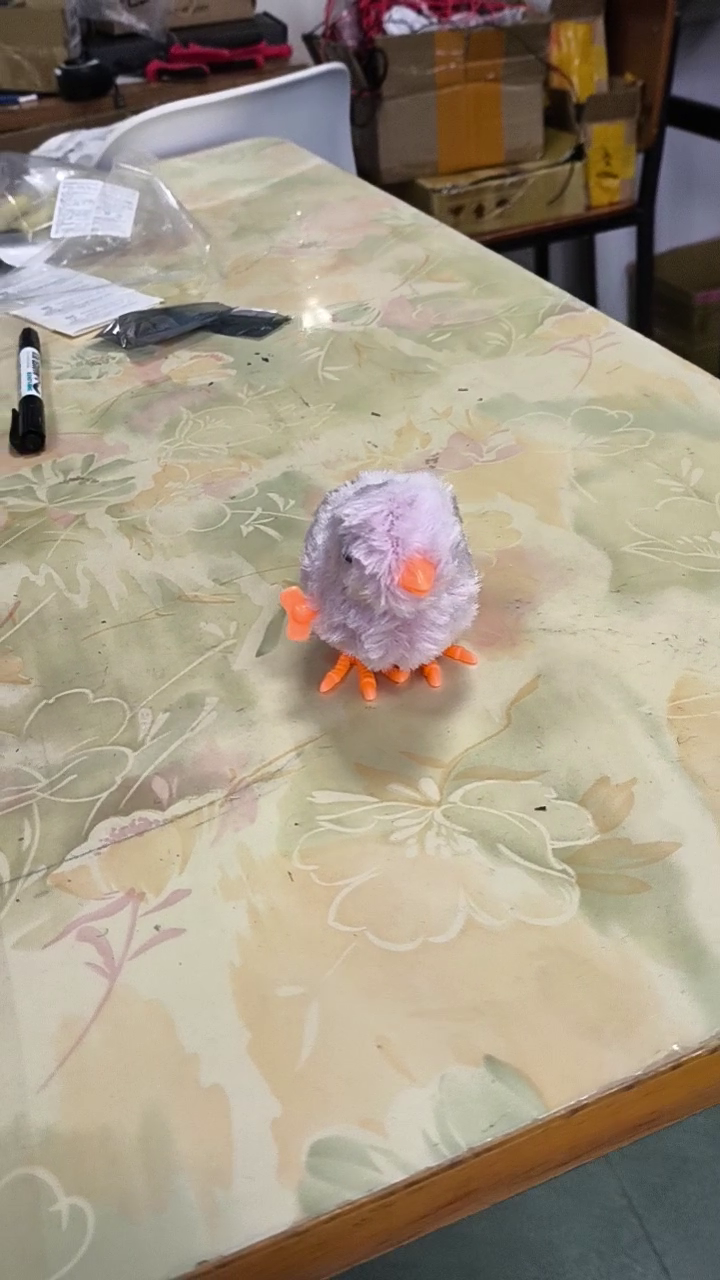pink chicken: (276, 464, 489, 708)
